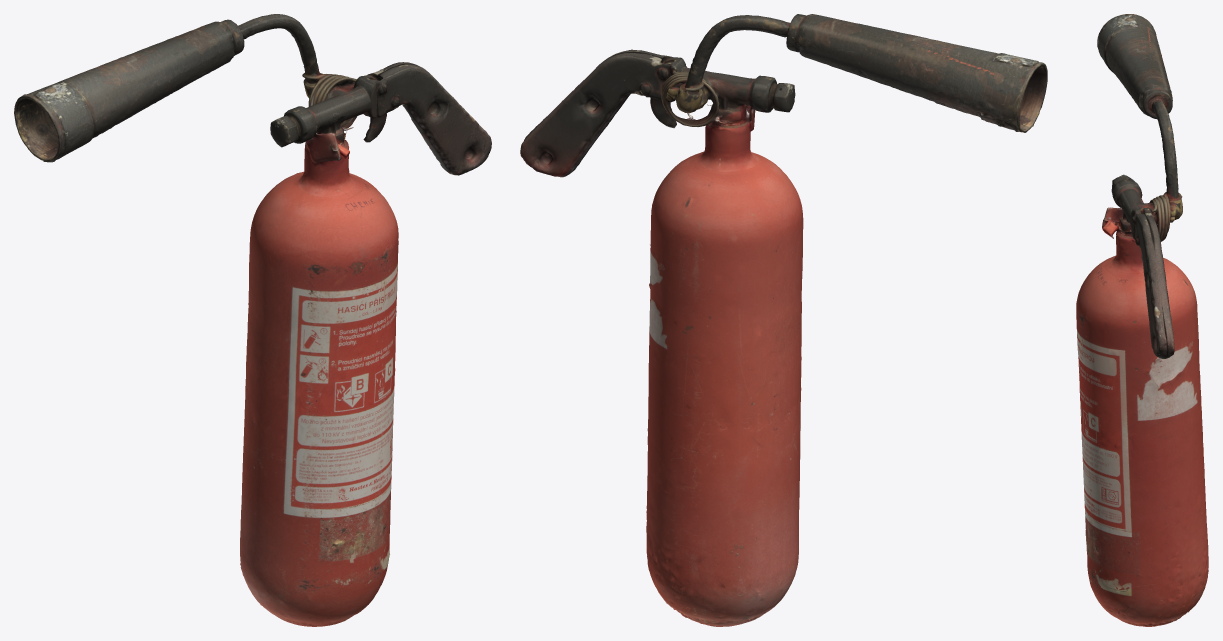
The model's file is fire_extinguisher.glb.
The picture shows the model from 3 angles, left to right: view 1: azimuth 30°, elevation 25°; view 2: azimuth 150°, elevation 25°; view 3: azimuth 270°, elevation 25°; orthographic projection. The views are drawn at different scales.
Visible parts, largest first — view 1: hasicak; view 2: hasicak; view 3: hasicak.
Part boxes in pixels (box(x1,y1,x2,y2)): hasicak: box(14, 14, 491, 626); hasicak: box(520, 14, 1047, 626); hasicak: box(1076, 14, 1208, 626).
Size of the model in its own units: 0.5404 by 0.6602 by 0.1583.
1 material, 1 textured.
